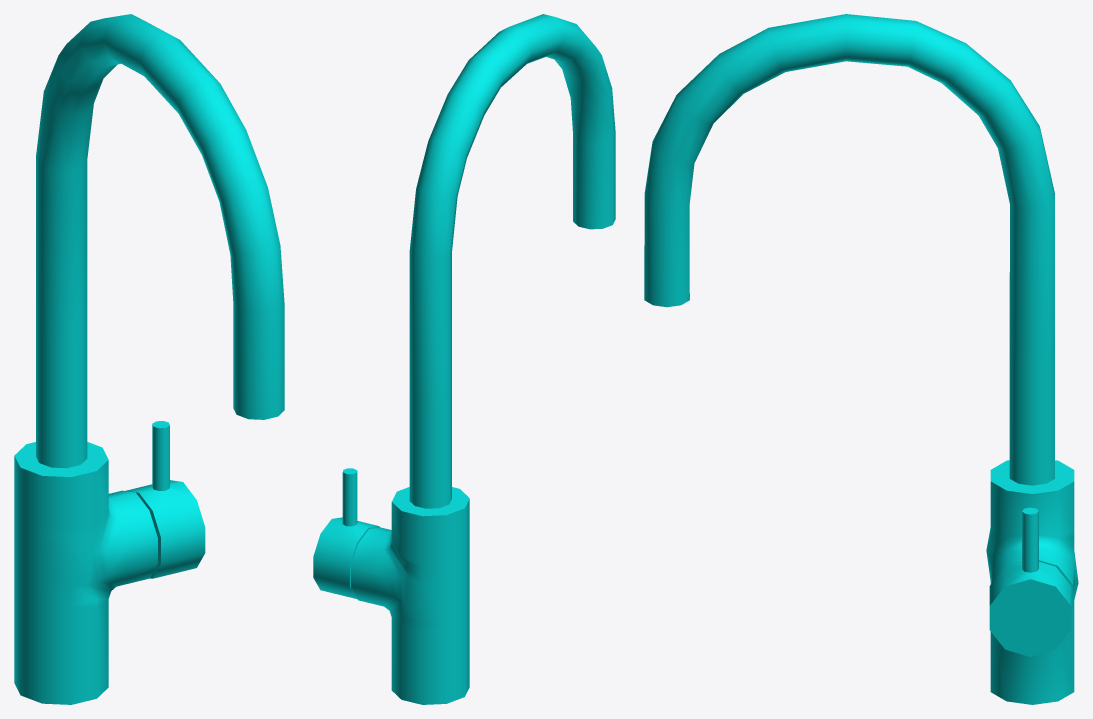
File: Fosset.fbx
The picture shows the model from 3 angles, left to right: view 1: azimuth 30°, elevation 25°; view 2: azimuth 150°, elevation 25°; view 3: azimuth 270°, elevation 25°; orthographic projection. The views are drawn at different scales.
Visible parts, largest first — view 1: Fosset, SinkButton; view 2: Fosset, SinkButton; view 3: Fosset, SinkButton.
Part boxes in pixels (x1,y1,x2,y2): Fosset: (14, 14, 284, 704); SinkButton: (125, 421, 205, 578); Fosset: (351, 14, 615, 704); SinkButton: (313, 468, 379, 598); Fosset: (644, 14, 1078, 704); SinkButton: (989, 507, 1071, 656).
Size of the model in its own units: 7.24 by 30.95 by 18.19.
